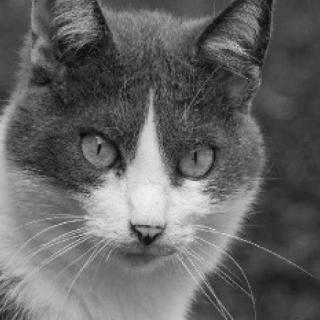cat: (10, 0, 284, 281)
nose: (127, 205, 166, 246)
